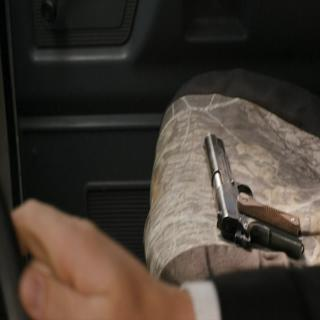gun: (202, 130, 303, 258)
